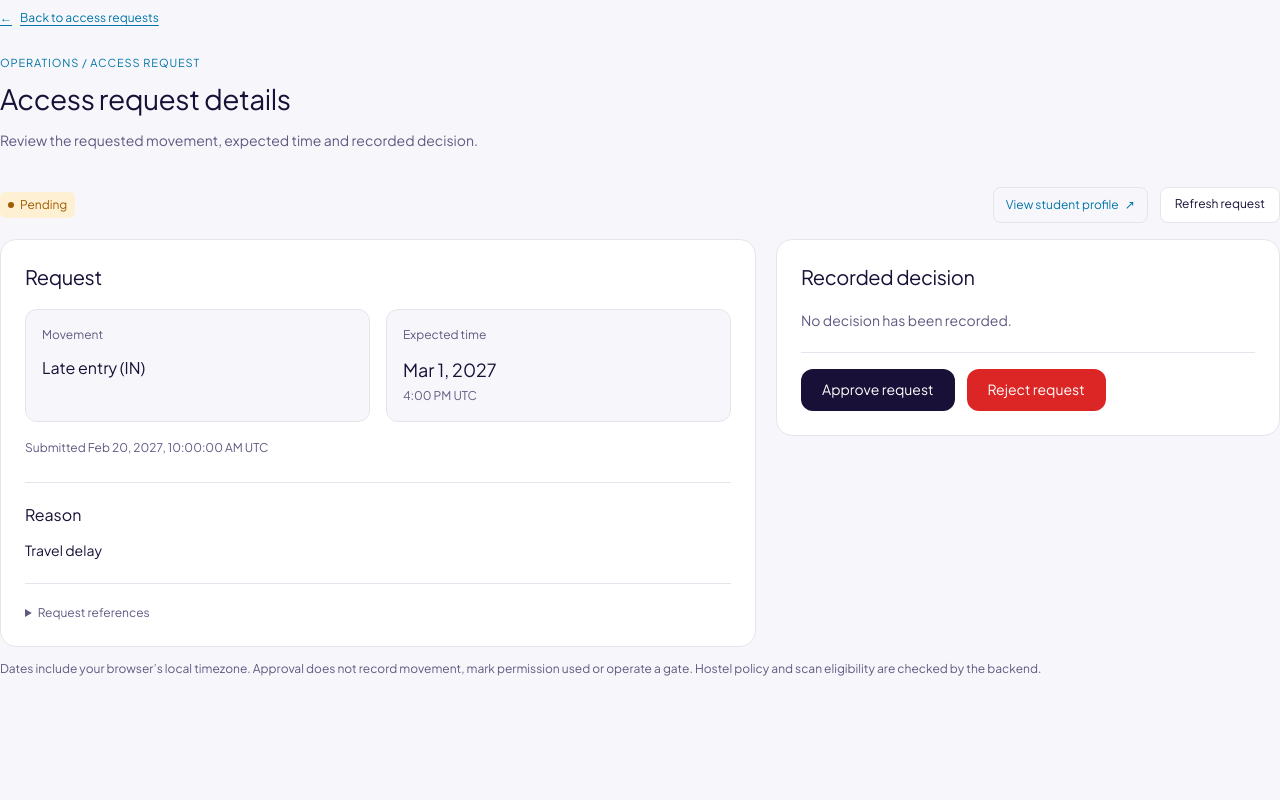
Test: requires a rejection note and confirmation before submitting
Click the button "Reject request". click: (1036,390)
box: [966, 369, 1106, 411]
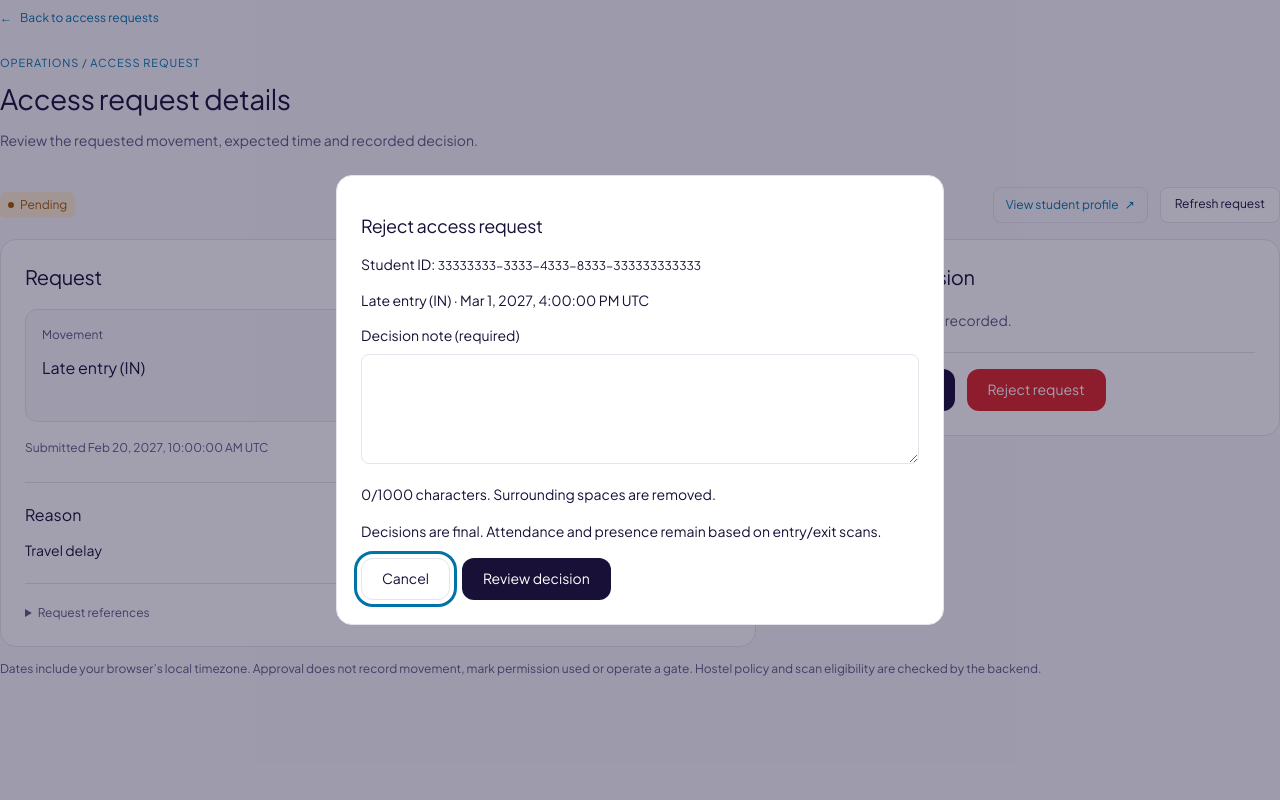
Click the button "Review decision". click: (536,579)
box: [462, 558, 611, 600]
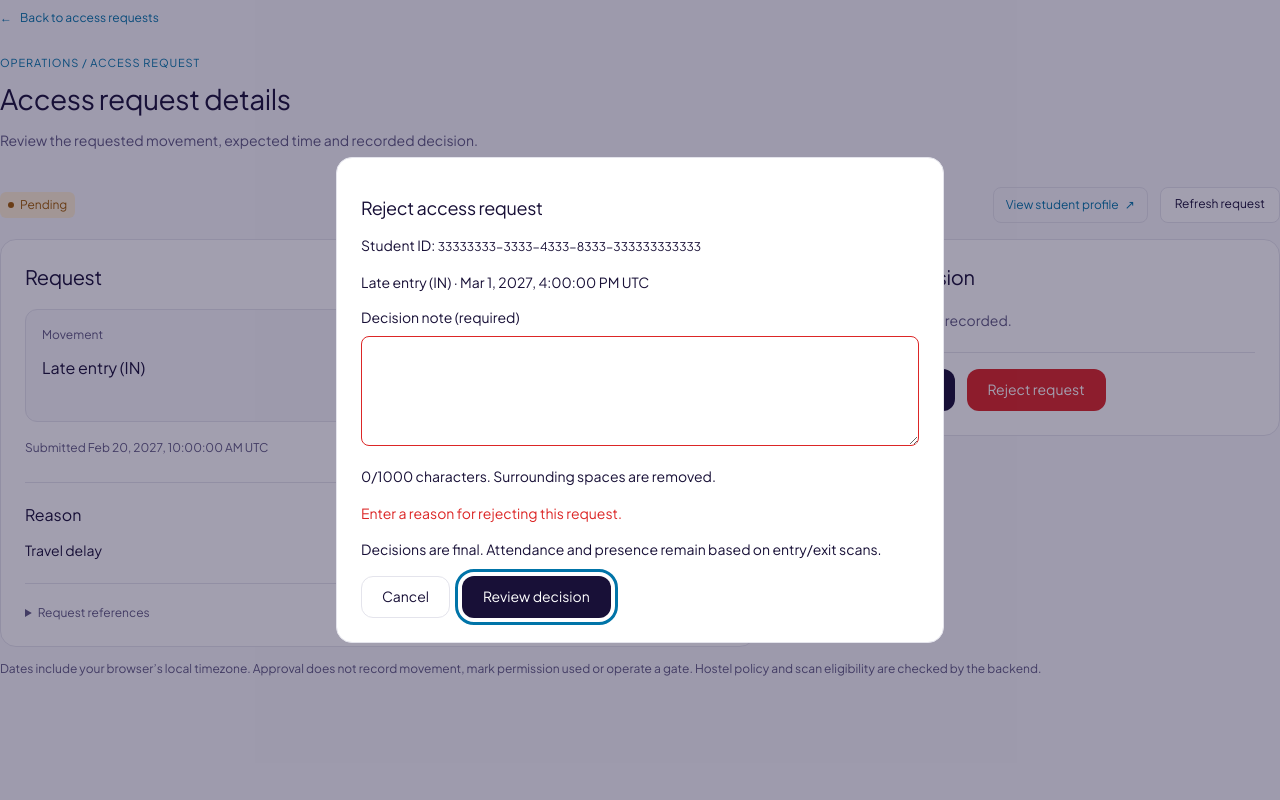
Check: the message shows "Enter a reason", box [361, 504, 622, 522]
Type "Not eligible" into the text box labelled "Decision note (required)". click: (640,391)
box: [361, 336, 919, 446]
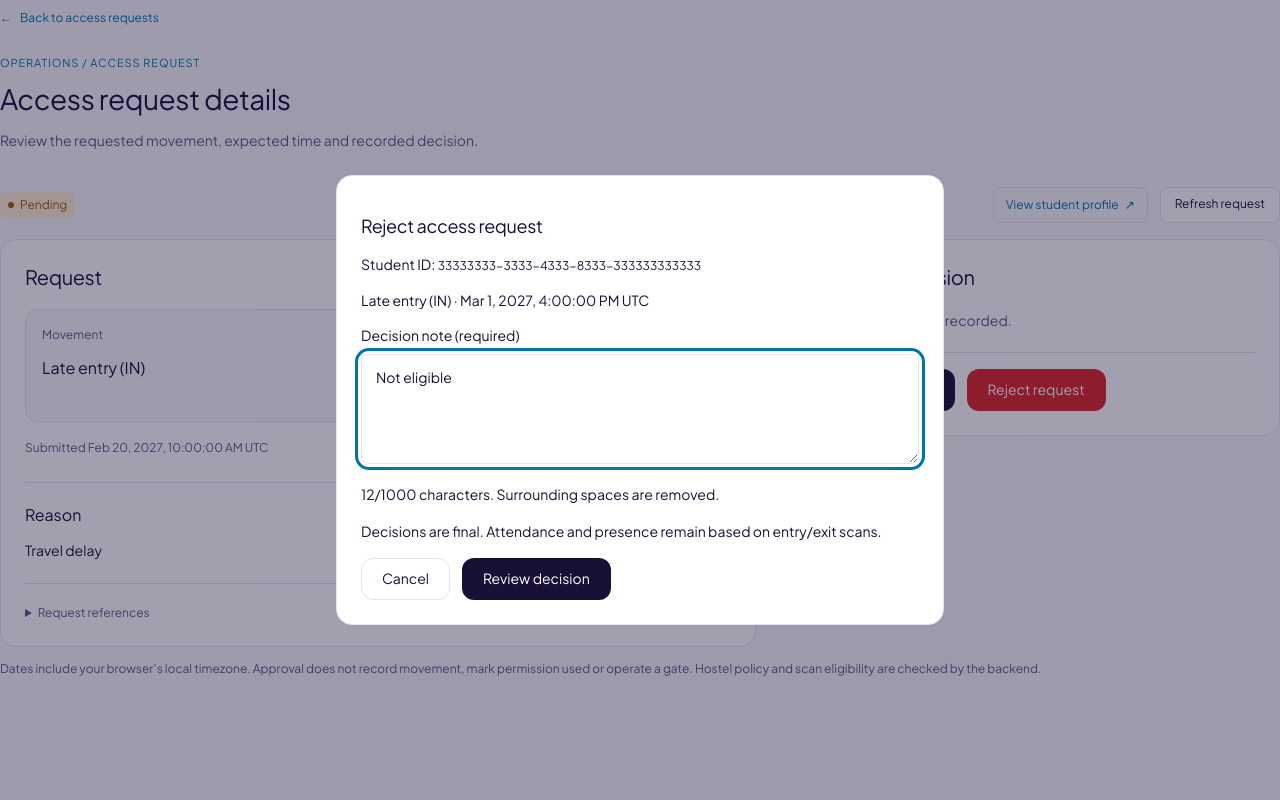
Click the button "Review decision". click: (536,579)
box: [462, 558, 611, 600]
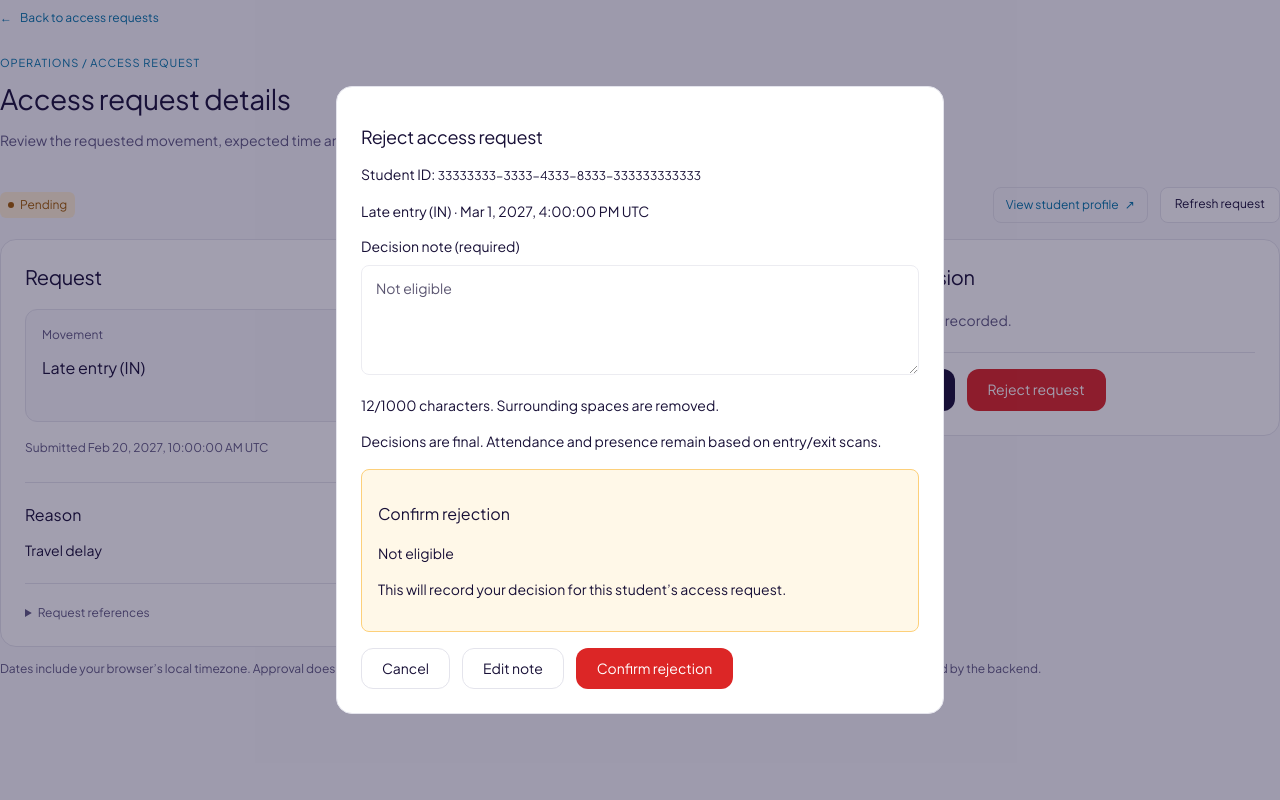
Click the button "Confirm rejection". click: (654,668)
box: [576, 648, 733, 689]
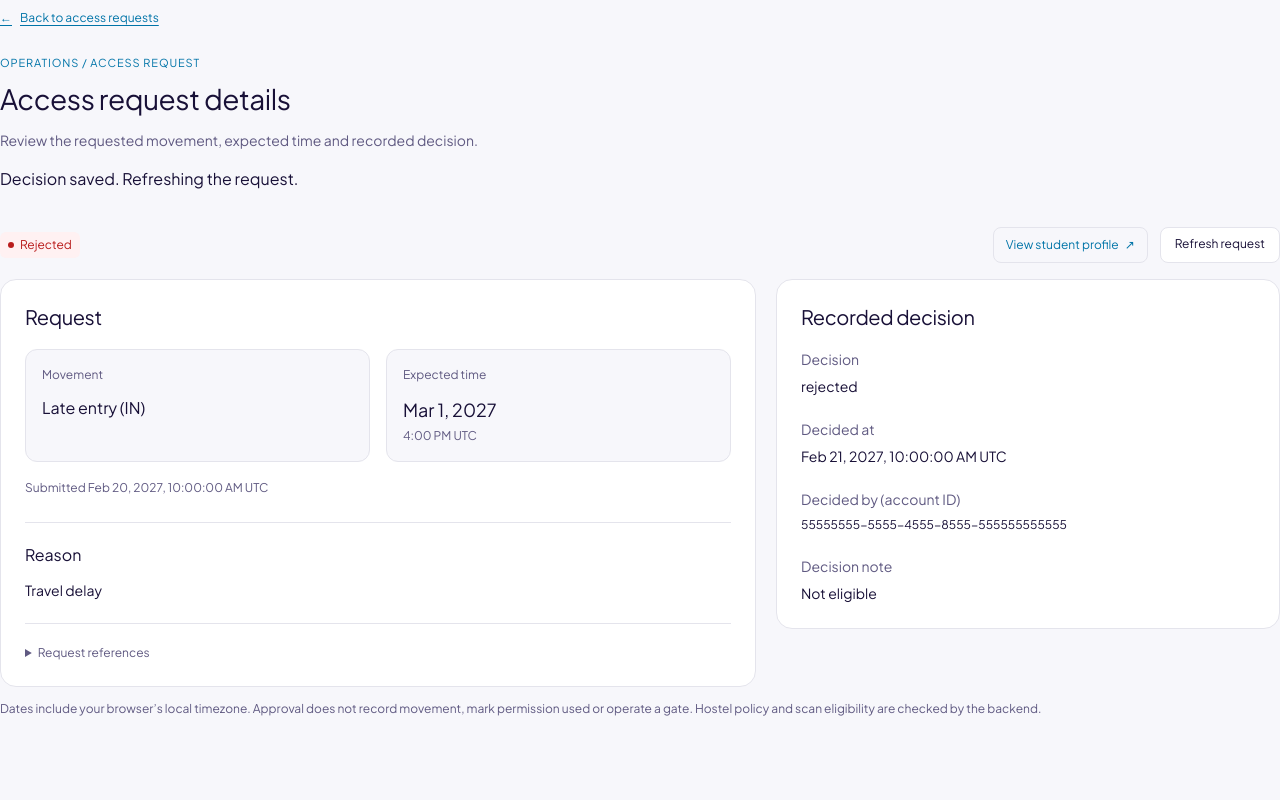
Check: the dialog is gone
Check: the text "Decision saved. Refreshing the request." is shown, box [0, 168, 298, 189]
